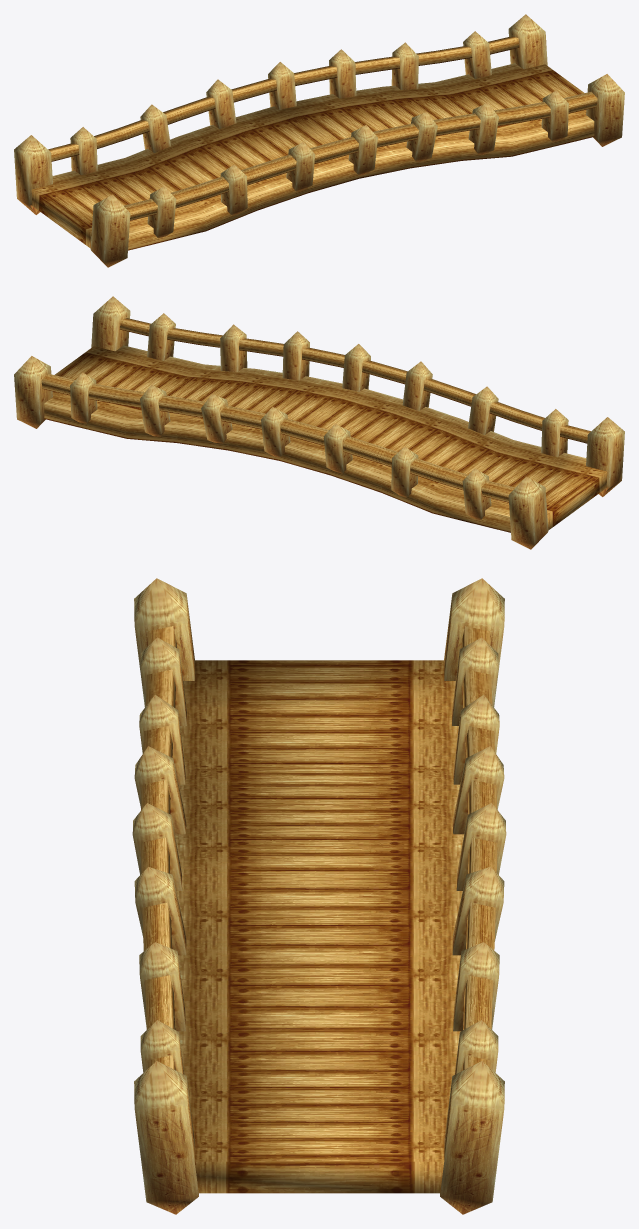
The model's file is elwynnfootbridge.obj.
The picture shows the model from 3 angles, top to bottom: view 1: azimuth 30°, elevation 25°; view 2: azimuth 150°, elevation 25°; view 3: azimuth 270°, elevation 25°; orthographic projection. The views are drawn at different scales.
Visible parts, largest first — view 1: Geoset0, Geoset1; view 2: Geoset0, Geoset1; view 3: Geoset0, Geoset1.
Part boxes in pixels (left/top/right/bottom): Geoset0: left=31, top=36, right=597, bottom=250; Geoset1: left=14, top=14, right=624, bottom=267; Geoset0: left=41, top=318, right=607, bottom=532; Geoset1: left=14, top=296, right=624, bottom=549; Geoset0: left=141, top=626, right=497, bottom=1193; Geoset1: left=132, top=578, right=506, bottom=1214.
Size of the model in its own units: 26.26 by 4.22 by 8.19.
Materials: 2 (2 with a texture image).
